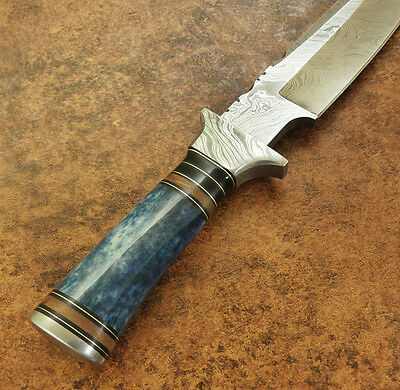knief: (19, 11, 396, 359)
